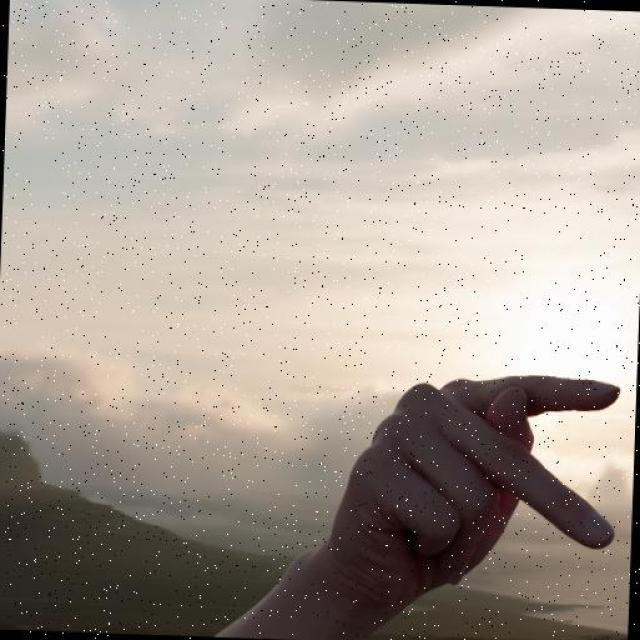P: (273, 364, 628, 594)
